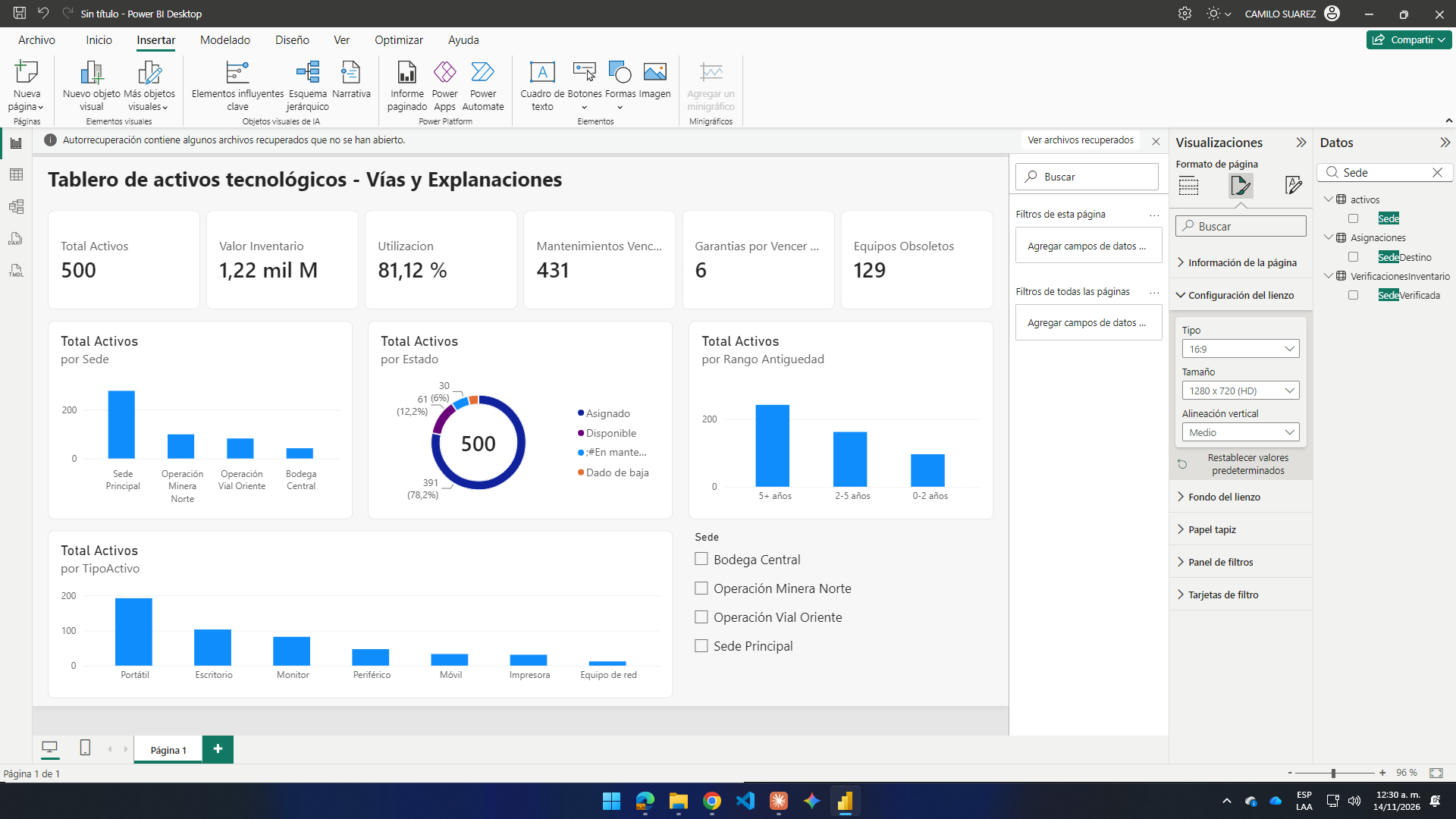

The page's visual inventory and layout, read from the dashboard file:
{"tool":"powerbi","page":{"name":"Página 1","canvas":[1280,720],"ordinal":0},"visuals":[{"type":"cardVisual","fields":{"Data":["activos.Total Activos","activos.Valor Inventario","activos.Utilizacion","activos.Mantenimientos Vencidos","activos.Garantias por Vencer 30d","activos.Equipos Obsoletos"]},"box":[20,70,1240,130],"z":0},{"type":"columnChart","fields":{"Category":["activos.Sede"],"Y":["activos.Total Activos"]},"box":[20,215,400,260],"z":1},{"type":"donutChart","fields":{"Category":["activos.Estado"],"Y":["activos.Total Activos"]},"box":[440,215,400,260],"z":2},{"type":"clusteredColumnChart","fields":{"Category":["activos.Rango Antiguedad"],"Y":["activos.Total Activos"]},"box":[860,215,400,260],"z":3},{"type":"columnChart","fields":{"Category":["activos.TipoActivo"],"Y":["activos.Total Activos"]},"box":[20,490,820,220],"z":4},{"type":"slicer","fields":{"Values":["activos.Sede"]},"box":[860,490,400,220],"z":5},{"type":"textbox","box":[20,10,1240,50],"z":6}]}

Visuals, with their boxes on the page's 1280x720 design canvas (x1, y1, x2, y2). These are canvas units, not pixel positions in the 1456x819 screenshot, which may show the page scaled, cropped or inside an application window:
cardVisual - activos.Total Activos x activos.Valor Inventario: 20 70 1260 200
columnChart - activos.Sede x activos.Total Activos: 20 215 420 475
donutChart - activos.Estado x activos.Total Activos: 440 215 840 475
clusteredColumnChart - activos.Rango Antiguedad x activos.Total Activos: 860 215 1260 475
columnChart - activos.TipoActivo x activos.Total Activos: 20 490 840 710
slicer - activos.Sede: 860 490 1260 710
textbox: 20 10 1260 60
